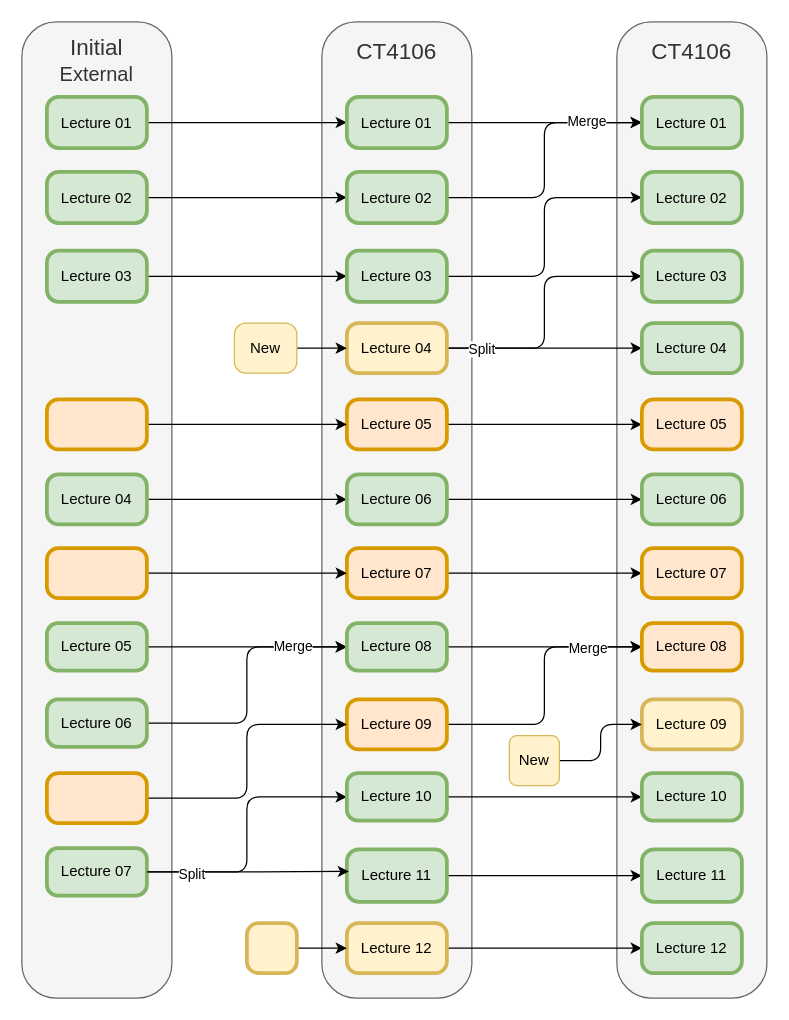
The diagram is 789 pixels wide and 1020 high, and some of its shapes have lost their labels. Here are the shapes that lost their labels. From the top down, the centre of each, then its label:
At (x=96, y=424): "Guest 1".
At (x=96, y=572): "Guest 2".
At (x=96, y=797): "Guest 3".
At (x=271, y=947): "ICHEC".
